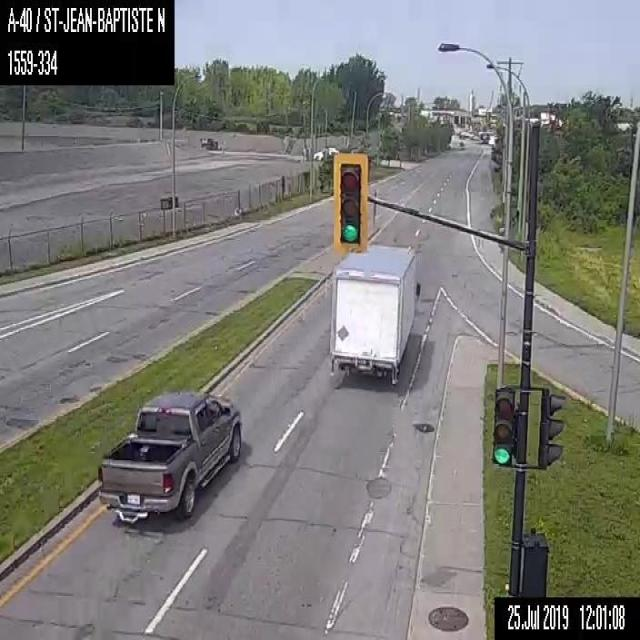vehicle: (96, 388, 242, 523), (328, 240, 420, 384), (312, 144, 336, 159)
